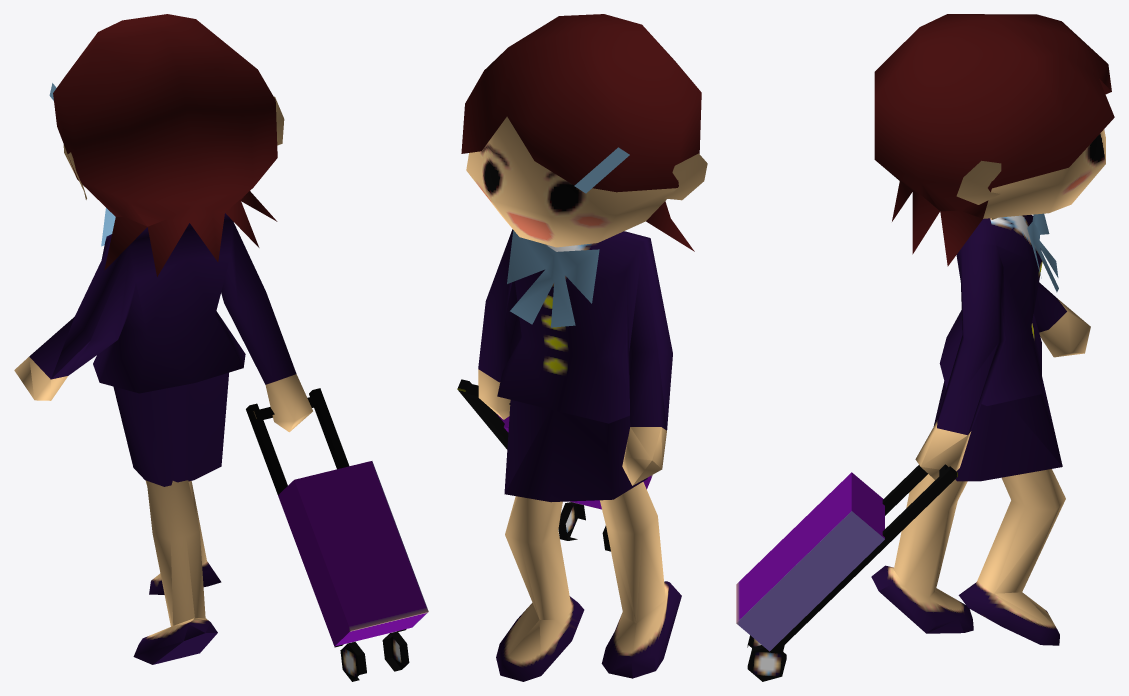
The model's file is sorat.ico.obj.
3 renders of one model, left to right at view 1: azimuth 30°, elevation 25°; view 2: azimuth 150°, elevation 25°; view 3: azimuth 270°, elevation 25°, orthographic. The views are drawn at different scales.
Bounding box in the file's own units: 1.6 × 3.77 × 2.09.
Materials: 1 (1 with a texture image).
